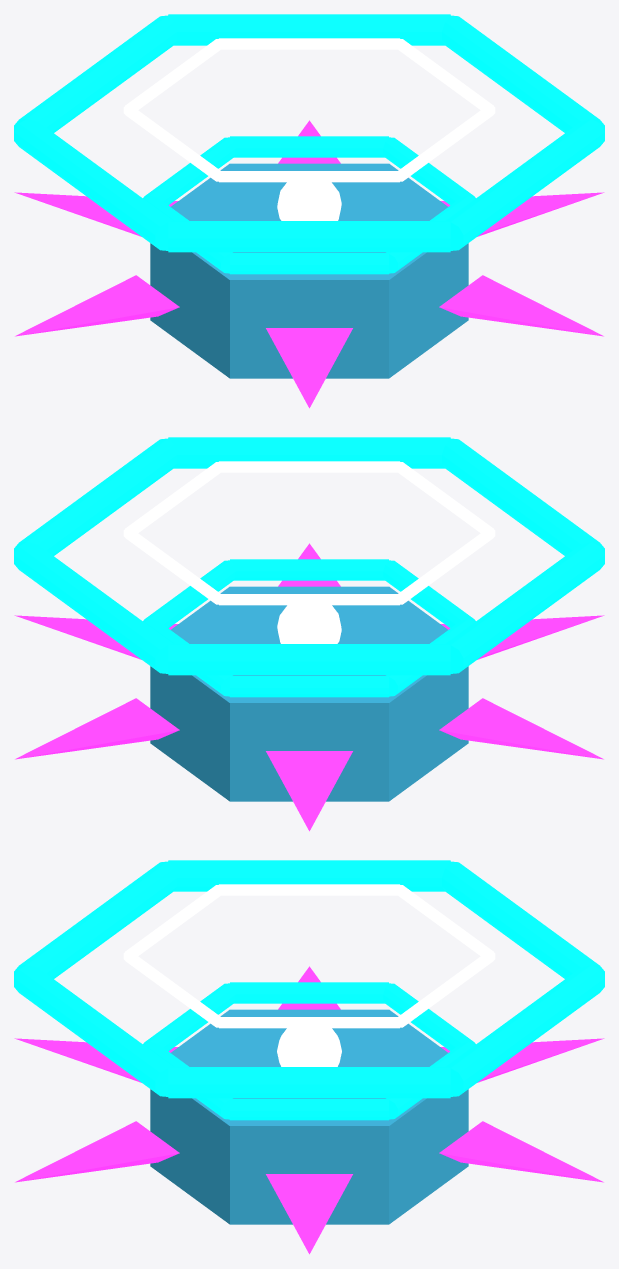
File: hex_slicer.glb
3 views of the same model, one above another, from view 1: azimuth 30°, elevation 25°; view 2: azimuth 150°, elevation 25°; view 3: azimuth 270°, elevation 25° (orthographic).
Visible parts, largest first — view 1: HexSlicerDarkCore, Hex_SlicerReadabilityHexRoute3, Hex_SlicerReadabilityHexRoute0, Hex_SlicerReadabilityHexRoute2, Hex_SlicerReadabilityHexRoute4, Hex_SlicerReadabilityHexRoute1, Hex_SlicerReadabilityHexRoute5, HexSlicerBlade3, HexSlicerBlade5, HexSlicerBlade4, HexSlicerCoreEdge3, HexSlicerCoreEdge0 (+14 smaller); view 2: HexSlicerDarkCore, Hex_SlicerReadabilityHexRoute1, Hex_SlicerReadabilityHexRoute4, Hex_SlicerReadabilityHexRoute0, Hex_SlicerReadabilityHexRoute2, Hex_SlicerReadabilityHexRoute3, Hex_SlicerReadabilityHexRoute5, HexSlicerBlade1, HexSlicerBlade3, HexSlicerBlade2, HexSlicerCoreEdge1, HexSlicerCoreEdge4 (+14 smaller); view 3: HexSlicerDarkCore, Hex_SlicerReadabilityHexRoute5, Hex_SlicerReadabilityHexRoute2, Hex_SlicerReadabilityHexRoute0, Hex_SlicerReadabilityHexRoute4, Hex_SlicerReadabilityHexRoute1, Hex_SlicerReadabilityHexRoute3, HexSlicerBlade1, HexSlicerBlade5, HexSlicerBlade0, HexSlicerCoreEdge5, HexSlicerCoreEdge2 (+14 smaller).
Boxes of the visible parts, box(x1,y1,x2,y2) form: HexSlicerDarkCore: box(150, 163, 468, 378); Hex_SlicerReadabilityHexRoute3: box(168, 221, 450, 252); Hex_SlicerReadabilityHexRoute0: box(168, 14, 450, 45); Hex_SlicerReadabilityHexRoute2: box(14, 119, 173, 250); Hex_SlicerReadabilityHexRoute4: box(445, 119, 604, 250); Hex_SlicerReadabilityHexRoute1: box(14, 15, 176, 132); Hex_SlicerReadabilityHexRoute5: box(442, 15, 604, 132); HexSlicerBlade3: box(15, 275, 179, 336); HexSlicerBlade5: box(439, 275, 603, 336); HexSlicerBlade4: box(266, 328, 352, 408); HexSlicerCoreEdge3: box(230, 253, 388, 274); HexSlicerCoreEdge0: box(230, 136, 388, 157); HexSlicerDarkCore: box(150, 586, 468, 801); Hex_SlicerReadabilityHexRoute1: box(168, 644, 450, 675); Hex_SlicerReadabilityHexRoute4: box(168, 437, 450, 468); Hex_SlicerReadabilityHexRoute0: box(14, 542, 173, 673); Hex_SlicerReadabilityHexRoute2: box(445, 542, 604, 673); Hex_SlicerReadabilityHexRoute3: box(442, 438, 604, 555); Hex_SlicerReadabilityHexRoute5: box(14, 438, 176, 555); HexSlicerBlade1: box(15, 698, 179, 759); HexSlicerBlade3: box(439, 698, 603, 759); HexSlicerBlade2: box(266, 751, 352, 831); HexSlicerCoreEdge1: box(230, 676, 388, 697); HexSlicerCoreEdge4: box(230, 559, 388, 580); HexSlicerDarkCore: box(150, 1009, 468, 1224); Hex_SlicerReadabilityHexRoute5: box(168, 1067, 450, 1098); Hex_SlicerReadabilityHexRoute2: box(168, 860, 450, 891); Hex_SlicerReadabilityHexRoute0: box(445, 965, 604, 1096); Hex_SlicerReadabilityHexRoute4: box(14, 965, 173, 1096); Hex_SlicerReadabilityHexRoute1: box(442, 861, 604, 978); Hex_SlicerReadabilityHexRoute3: box(14, 861, 176, 978); HexSlicerBlade1: box(439, 1121, 603, 1182); HexSlicerBlade5: box(15, 1121, 179, 1182); HexSlicerBlade0: box(266, 1174, 352, 1254); HexSlicerCoreEdge5: box(230, 1099, 388, 1120); HexSlicerCoreEdge2: box(230, 982, 388, 1003).
Bounding box in the file's own units: 2.17 × 0.7544 × 1.88.
